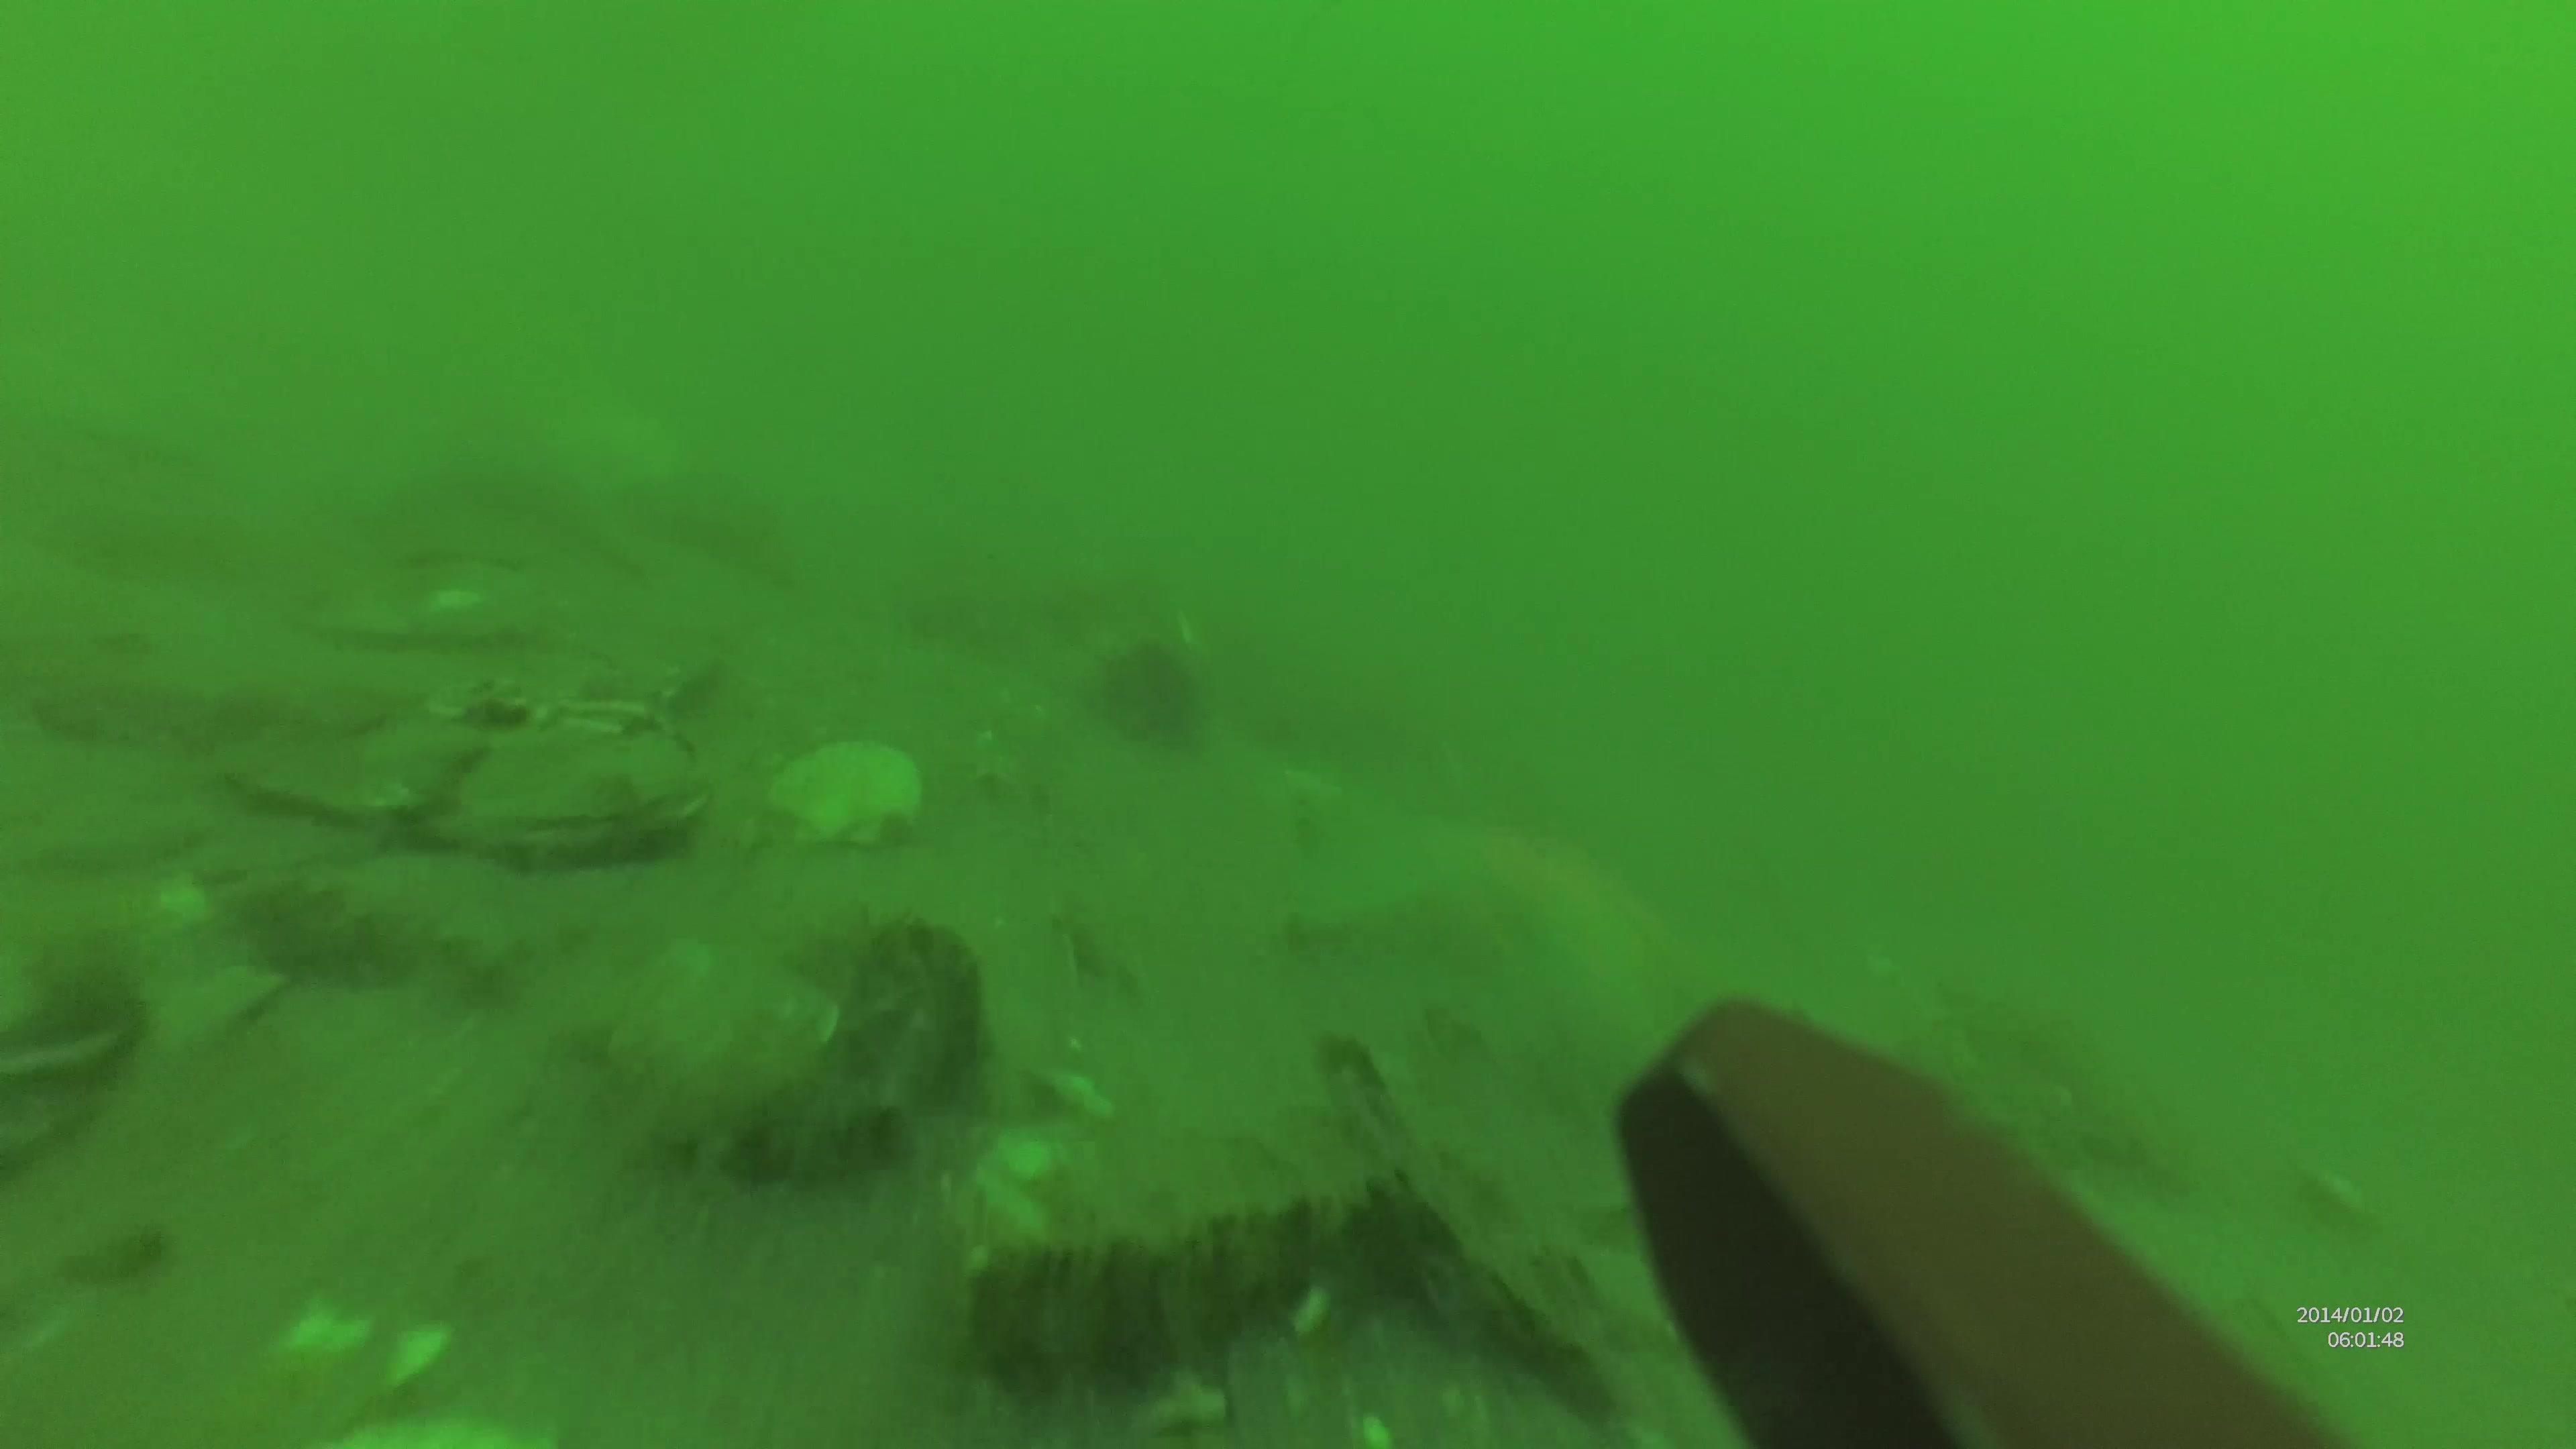echinus: (1099, 648, 1210, 755)
scallop: (453, 720, 701, 890), (768, 738, 929, 855)
